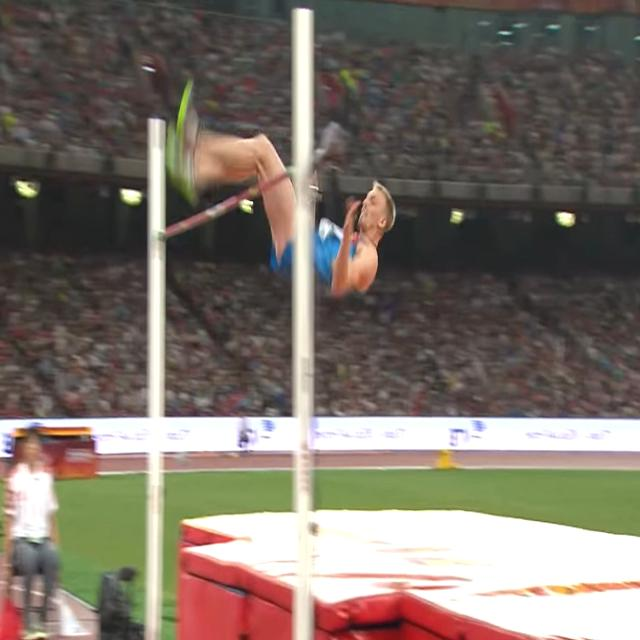land: (163, 87, 394, 297)
